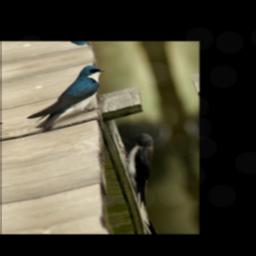Swallow: (16, 62, 117, 132)
